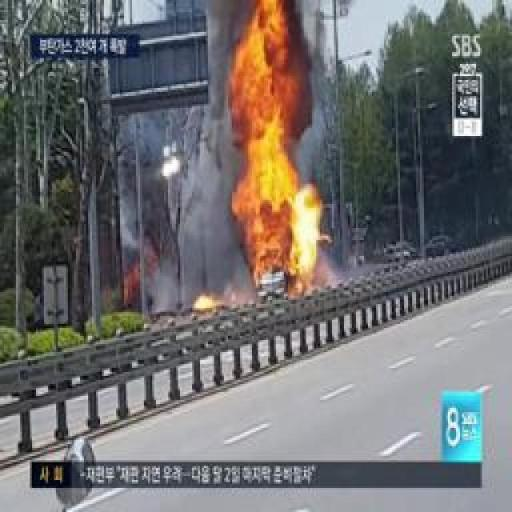smoke: (256, 188, 316, 279), (253, 133, 293, 185), (195, 298, 227, 311)
